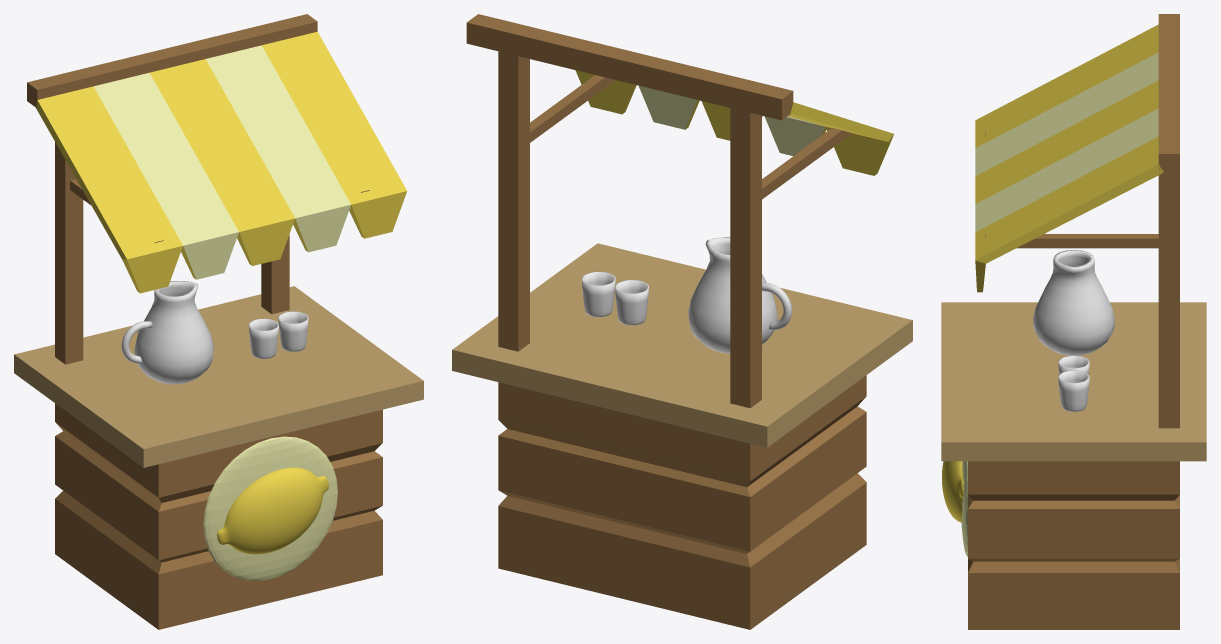
Rendered from lemonadeStand.fbx.
The picture shows the model from 3 angles, left to right: view 1: azimuth 30°, elevation 25°; view 2: azimuth 150°, elevation 25°; view 3: azimuth 270°, elevation 25°; orthographic projection. The views are drawn at different scales.
Parts seen in each view (by area): view 1: Cube.009, Cube.005, Cube.006, Sphere.002, Cube.007, Sphere, pitcher, Cube.010, cup.001, cup; view 2: Cube.005, Cube.006, Cube.007, Cube.010, Cube.009, pitcher, Cube.008, cup.001, cup; view 3: Cube.005, Cube.006, Cube.009, pitcher, Cube.007, Cube.010, Cube.008, cup.001, Sphere, Sphere.002, cup.
Boxes of the visible parts, bbox=[...] form: Cube.009: bbox=[35, 31, 407, 293]; Cube.005: bbox=[55, 403, 382, 629]; Cube.006: bbox=[14, 286, 423, 467]; Sphere.002: bbox=[203, 436, 337, 580]; Cube.007: bbox=[55, 142, 289, 364]; Sphere: bbox=[217, 467, 328, 554]; pitcher: bbox=[121, 281, 213, 384]; Cube.010: bbox=[27, 14, 317, 108]; cup.001: bbox=[278, 311, 308, 351]; cup: bbox=[248, 318, 278, 358]; Cube.005: bbox=[498, 375, 866, 629]; Cube.006: bbox=[452, 243, 912, 447]; Cube.007: bbox=[498, 41, 761, 408]; Cube.010: bbox=[466, 14, 793, 120]; Cube.009: bbox=[575, 70, 893, 175]; pitcher: bbox=[688, 237, 792, 353]; Cube.008: bbox=[530, 75, 851, 199]; cup.001: bbox=[581, 271, 615, 317]; cup: bbox=[615, 280, 648, 325]; Cube.005: bbox=[968, 461, 1179, 629]; Cube.006: bbox=[941, 302, 1206, 461]; Cube.009: bbox=[975, 24, 1163, 292]; pitcher: bbox=[1033, 250, 1114, 355]; Cube.007: bbox=[1158, 173, 1179, 428]; Cube.010: bbox=[1158, 14, 1179, 173]; Cube.008: bbox=[985, 131, 1158, 248]; cup.001: bbox=[1058, 370, 1089, 411]; Sphere: bbox=[942, 461, 963, 522]; Sphere.002: bbox=[961, 461, 967, 556]; cup: bbox=[1058, 355, 1089, 374].
Bounding box in the file's own units: 313 × 510 × 250.
